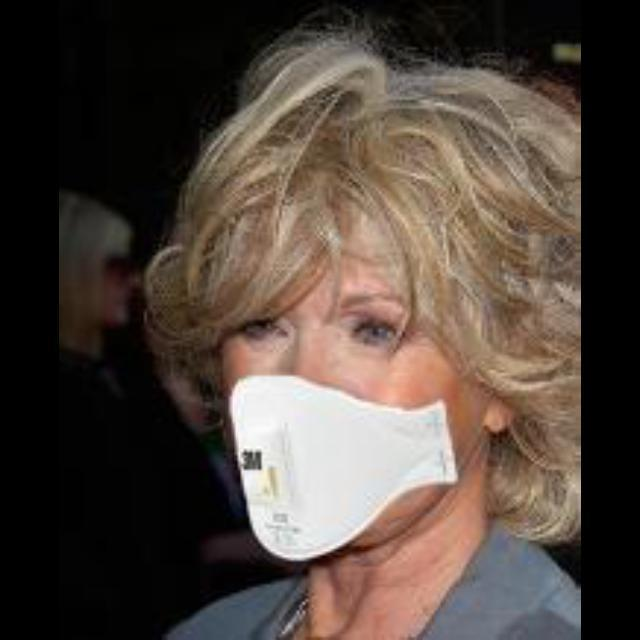suspicion: (167, 149, 516, 551)
